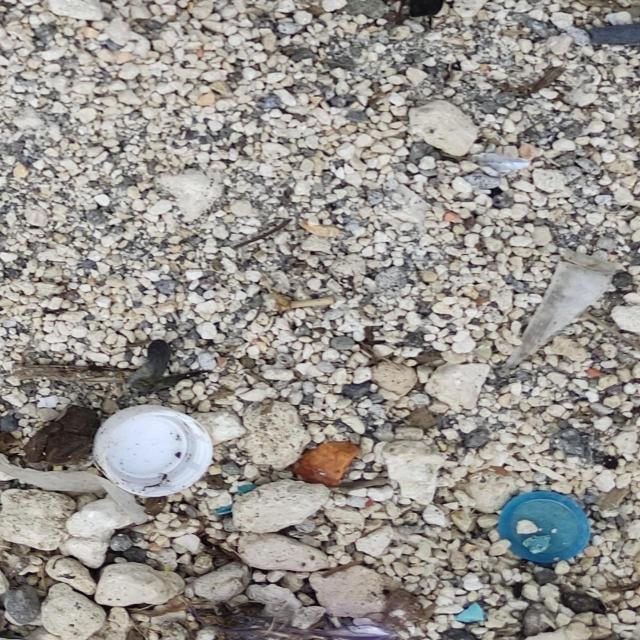plastic_waste: (92, 405, 217, 498), (501, 492, 593, 562)
